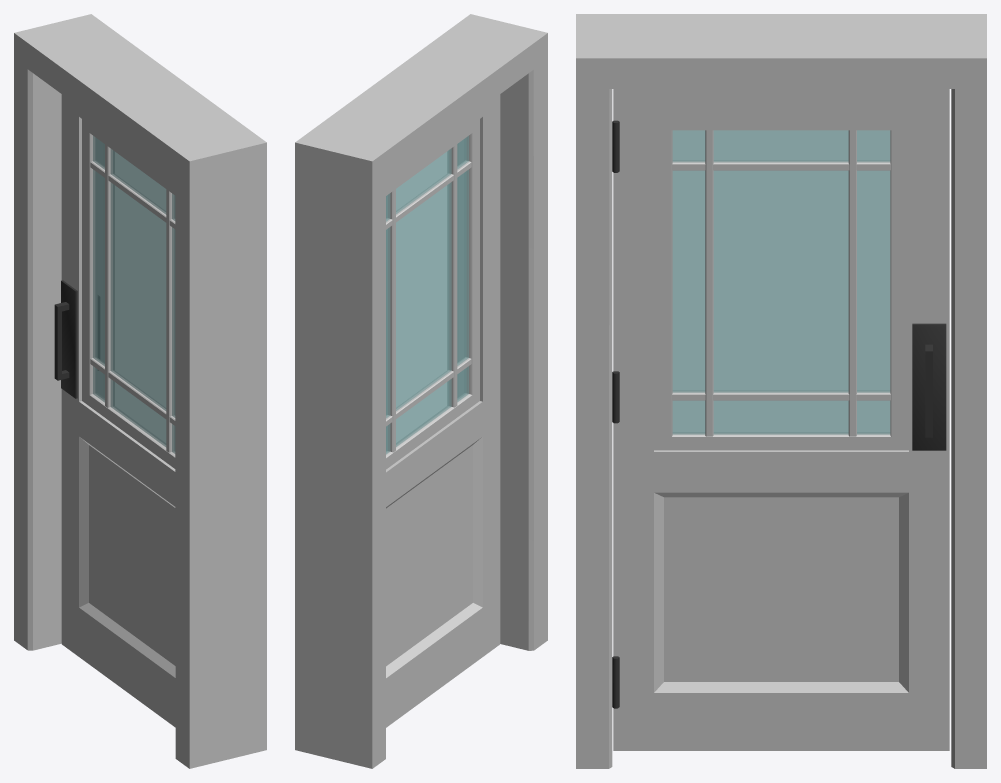
File: Door04_open.FBX
The picture shows the model from 3 angles, left to right: view 1: azimuth 30°, elevation 25°; view 2: azimuth 150°, elevation 25°; view 3: azimuth 270°, elevation 25°; orthographic projection. The views are drawn at different scales.
Parts seen in each view (by area): view 1: Door04_open; view 2: Door04_open; view 3: Door04_open.
Boxes of the visible parts, x1=… form: Door04_open: x1=14, y1=14, x2=266, y2=768; Door04_open: x1=295, y1=14, x2=547, y2=768; Door04_open: x1=576, y1=14, x2=986, y2=768.
Size of the model in its own units: 28 by 110 by 210.
